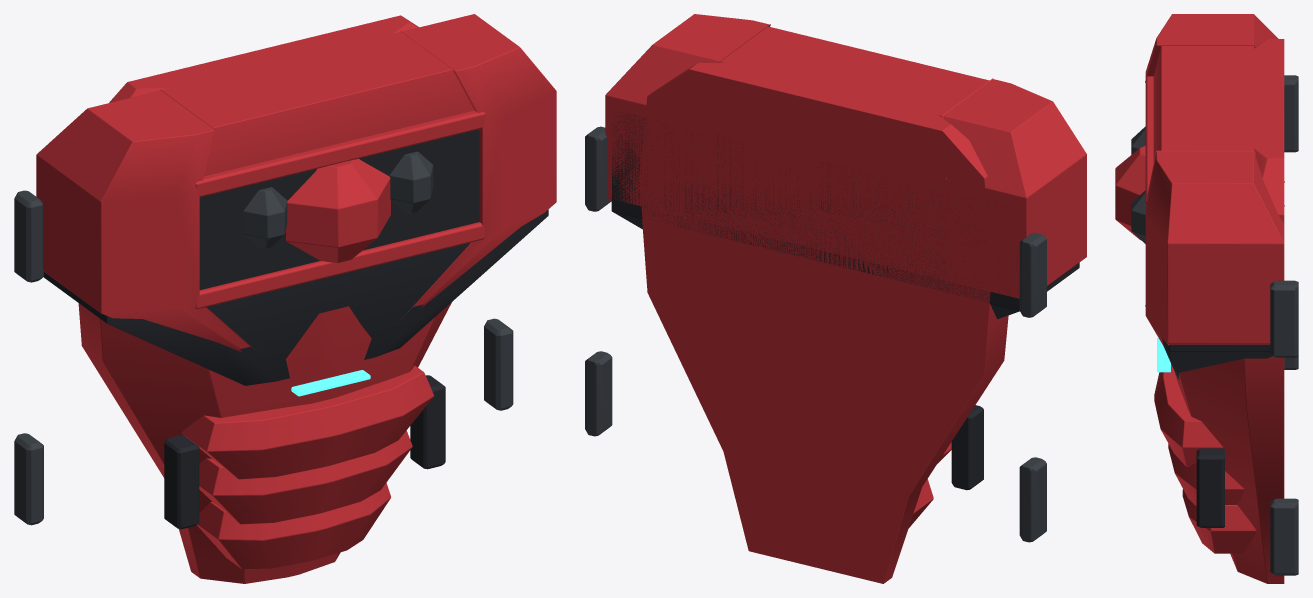
File: BodyFront_Set09_Mantis.fbx
3 views of the same model, side by side, from view 1: azimuth 30°, elevation 25°; view 2: azimuth 150°, elevation 25°; view 3: azimuth 270°, elevation 25° (orthographic). The views are drawn at different scales.
Parts seen in each view (by area): view 1: BodyFront_Set09_Mantis; view 2: BodyFront_Set09_Mantis; view 3: BodyFront_Set09_Mantis.
Part boxes in pixels (box(x1,y1,x2,y2)): BodyFront_Set09_Mantis: box(14, 14, 556, 583); BodyFront_Set09_Mantis: box(585, 14, 1086, 583); BodyFront_Set09_Mantis: box(1115, 14, 1298, 583).
Bounding box in the file's own units: 1.07 × 1.06 × 0.3878.
